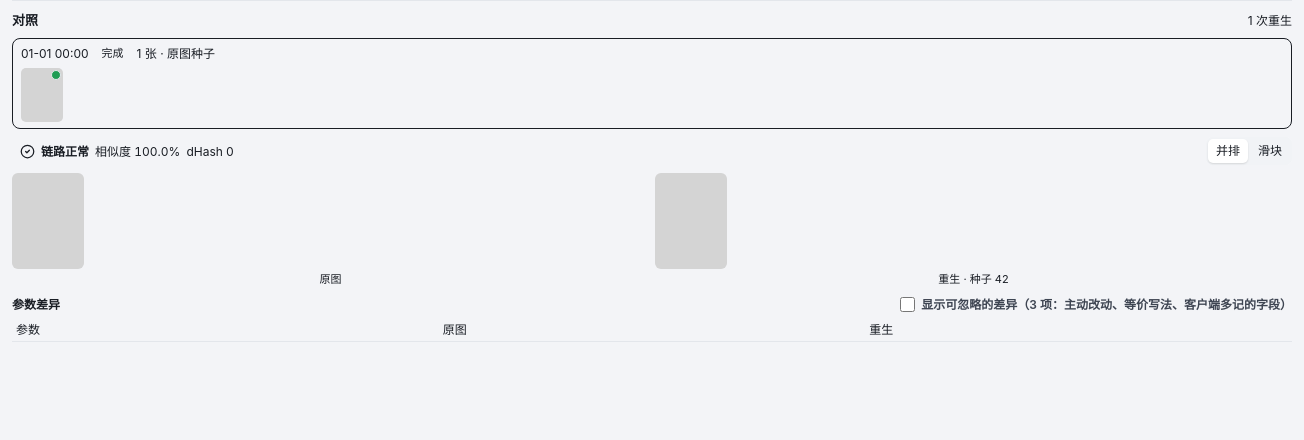
Test: RunPanel › folds ignorable diffs that share a reason into one row
Expected: the text "Software" is not shown
Step 1. Click the checkbox → coordinates (908, 305), box [900,297,915,312]
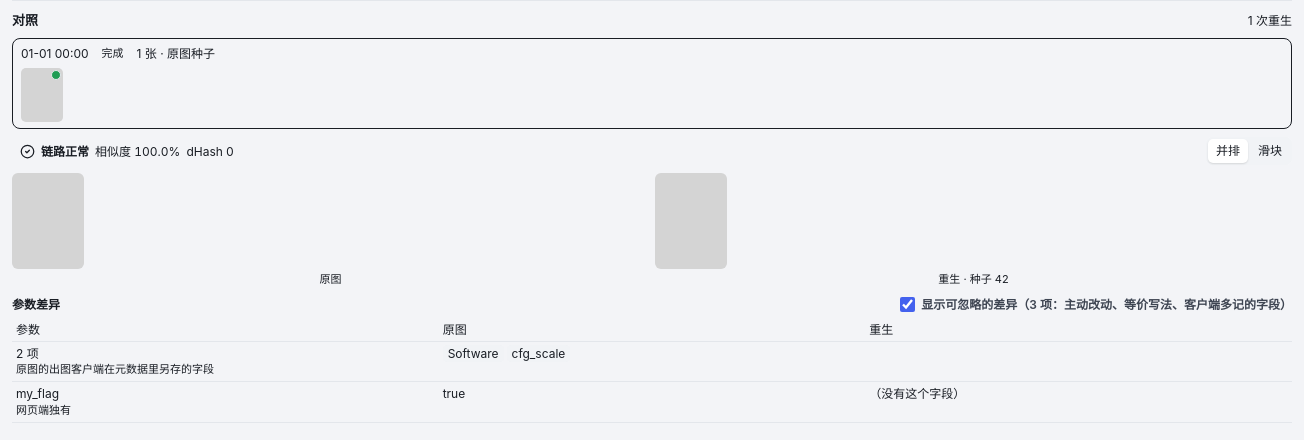
Now the text "2 项" is shown, box [12,342,439,382]
Now the text "my_flag" is shown, box [16,386,59,401]
Now the text "（没有这个字段）" is shown, box [865,382,1292,422]
